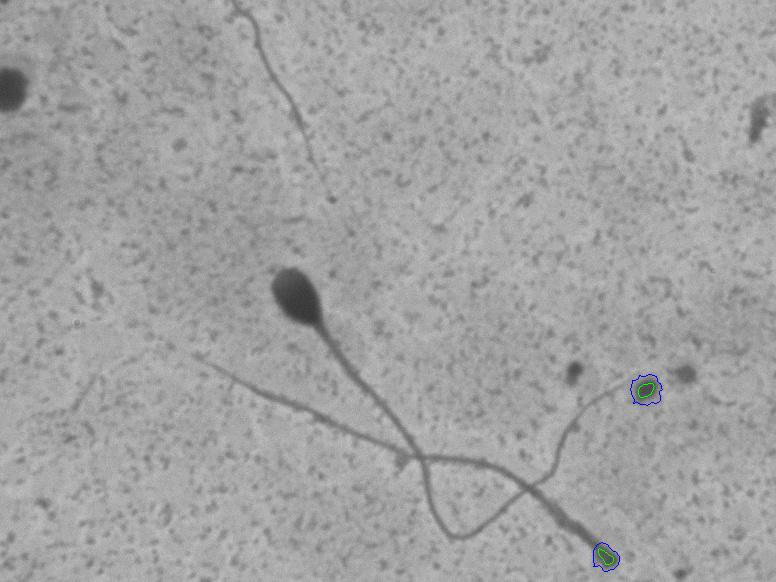Normal: (242, 231, 642, 554)
